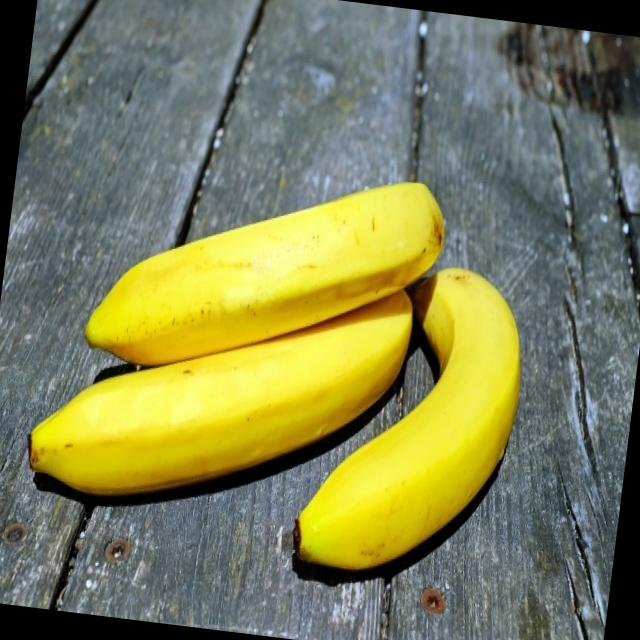banana: (19, 244, 424, 574), (73, 135, 473, 406), (282, 238, 548, 617)
